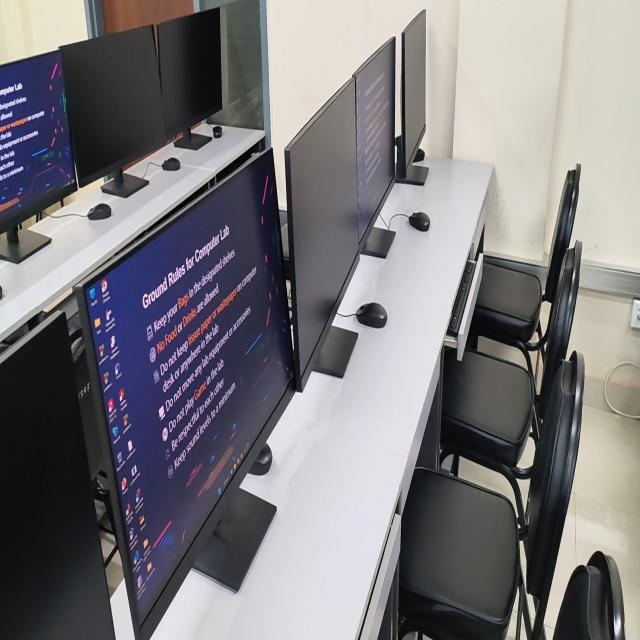Chair: (399, 351, 584, 639), (440, 241, 582, 519), (466, 165, 581, 375), (553, 551, 625, 639), (553, 553, 624, 639)
Monitor: (78, 149, 294, 639), (0, 313, 114, 639), (285, 79, 358, 391), (61, 26, 166, 185), (0, 50, 76, 220), (157, 8, 222, 141), (354, 39, 395, 246), (401, 11, 425, 172)
Mouse: (355, 302, 387, 328), (248, 443, 272, 476), (408, 211, 430, 231), (87, 203, 111, 220), (162, 157, 180, 171), (413, 150, 425, 162), (213, 125, 222, 138)
